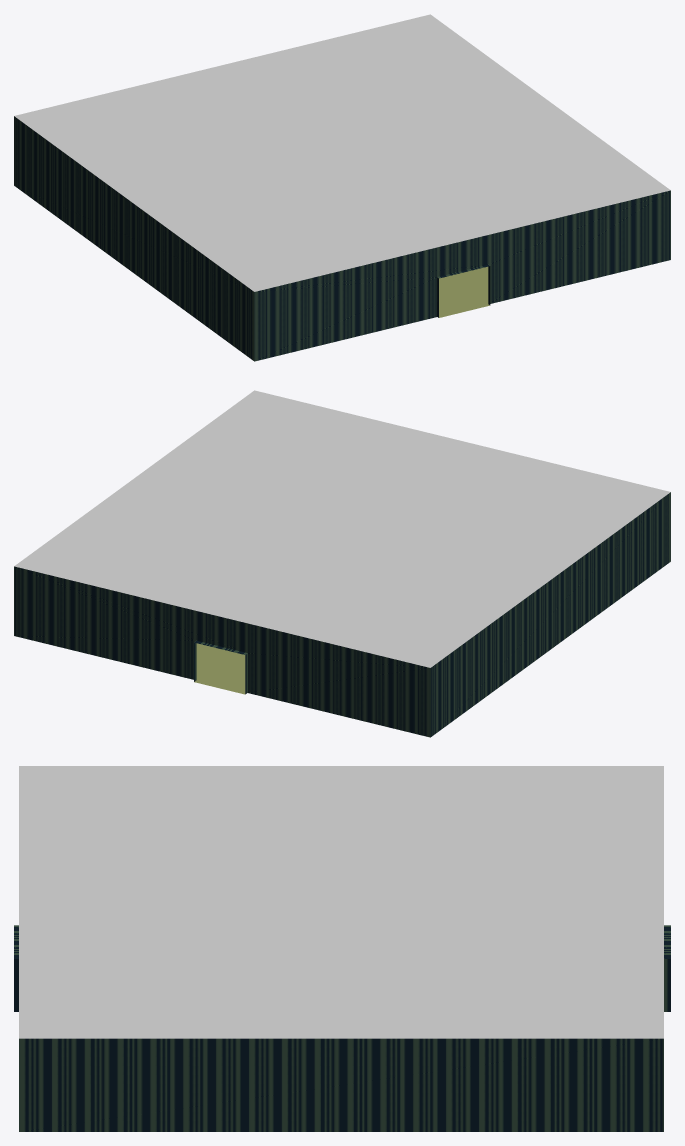
File: level.fbx
3 renders of one model, top to bottom at view 1: azimuth 30°, elevation 25°; view 2: azimuth 150°, elevation 25°; view 3: azimuth 270°, elevation 25°, orthographic. The views are drawn at different scales.
Visible parts, largest first — view 1: Cube.001; view 2: Cube.001; view 3: Cube.001.
Boxes of the visible parts, x1,y1,x2,y2 form: Cube.001: [14, 14, 670, 361]; Cube.001: [14, 390, 670, 737]; Cube.001: [14, 766, 670, 1131].
Size of the model in its own units: 59.1 by 9.43 by 60.2.
